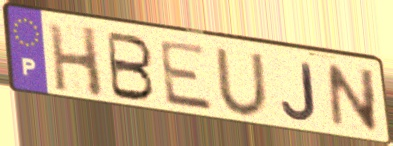B: (105, 29, 157, 104)
E: (156, 38, 217, 114)
H: (45, 21, 106, 101)
J: (279, 60, 320, 124)
N: (325, 62, 381, 136)
U: (212, 46, 272, 120)
